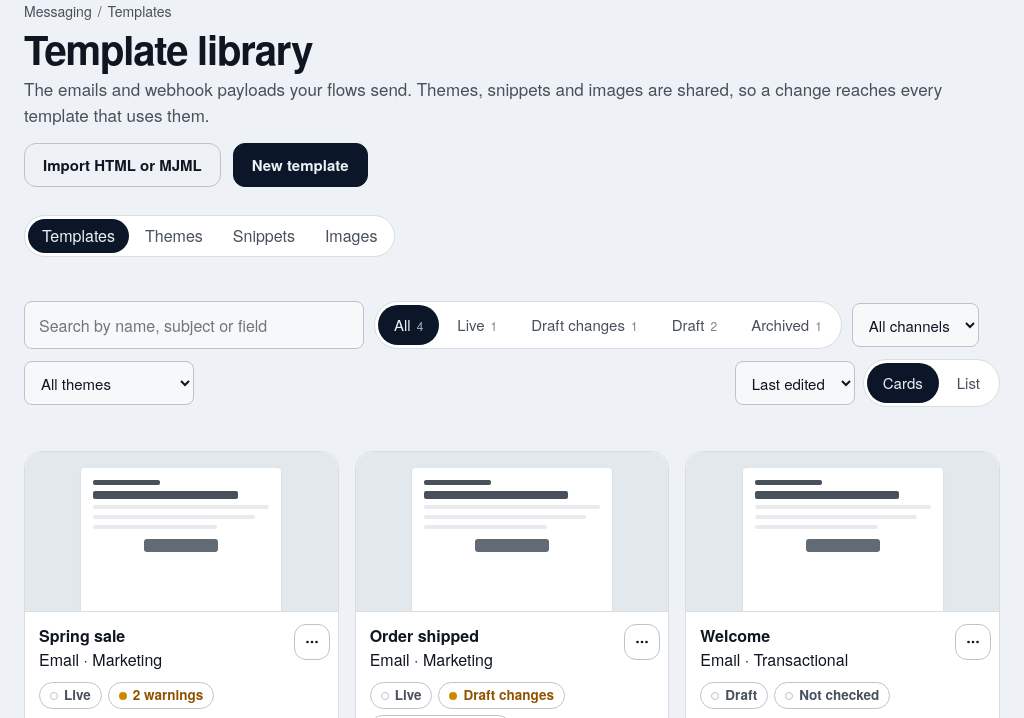
a template's menu › shows the flows from the refusal when a flow started sending the template since the list was read
Click the button named "Actions for Order shipped" at (642,642), box left=624, top=624, right=660, bottom=660
(page scrolled)
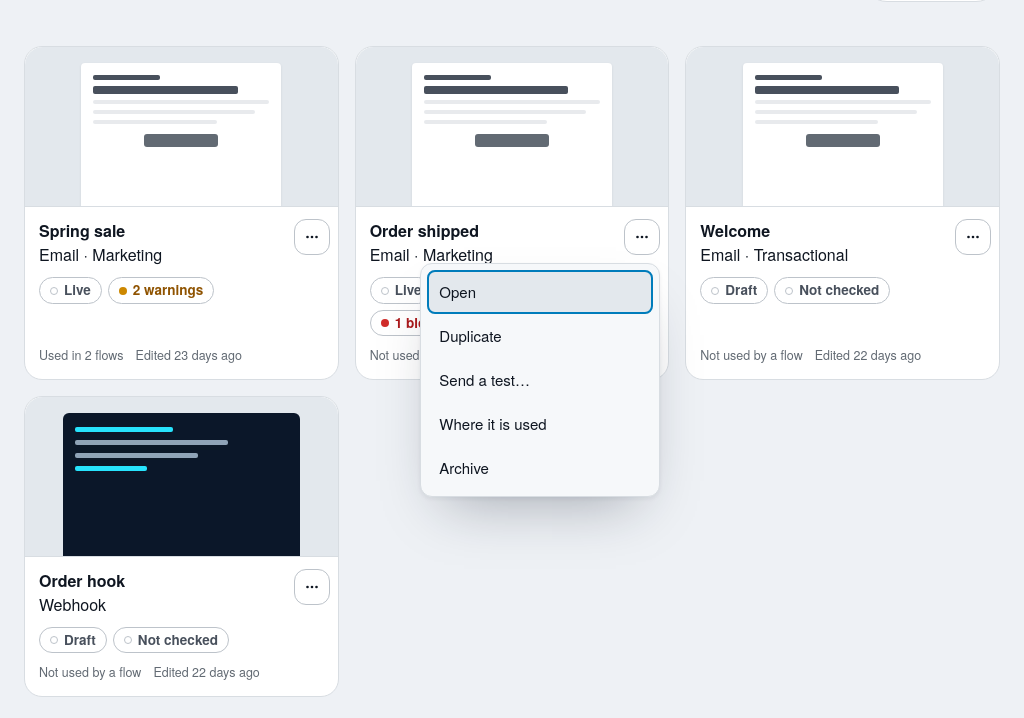
Click the menu item "Archive" at (540,468), box left=427, top=446, right=653, bottom=490
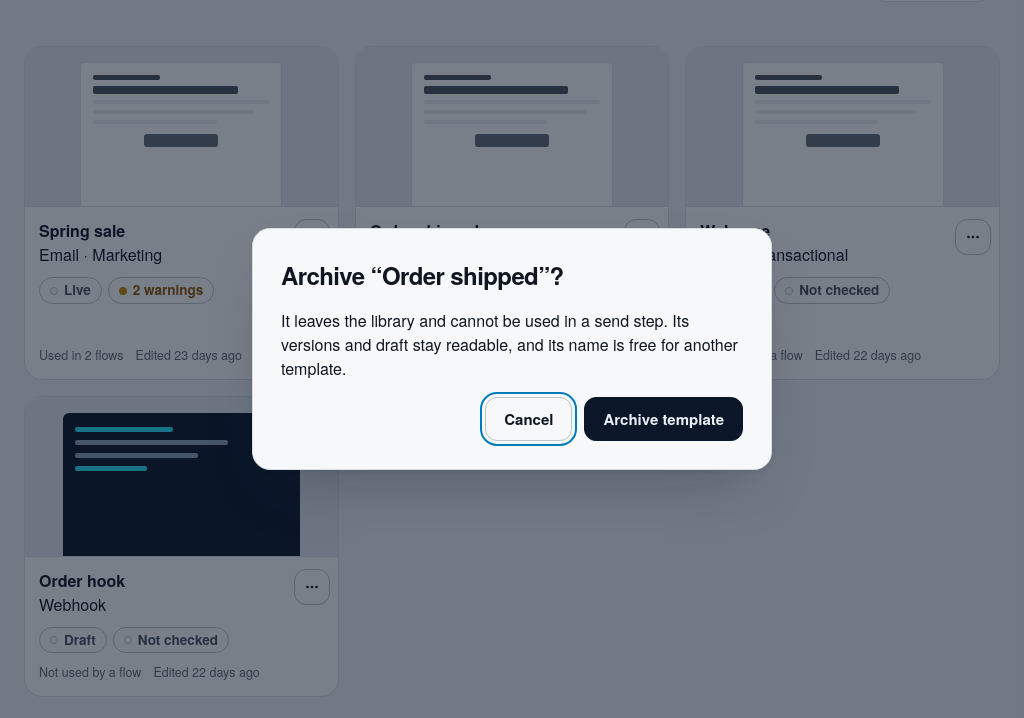
Click the button "Archive template" at (664,419), box left=584, top=397, right=743, bottom=441
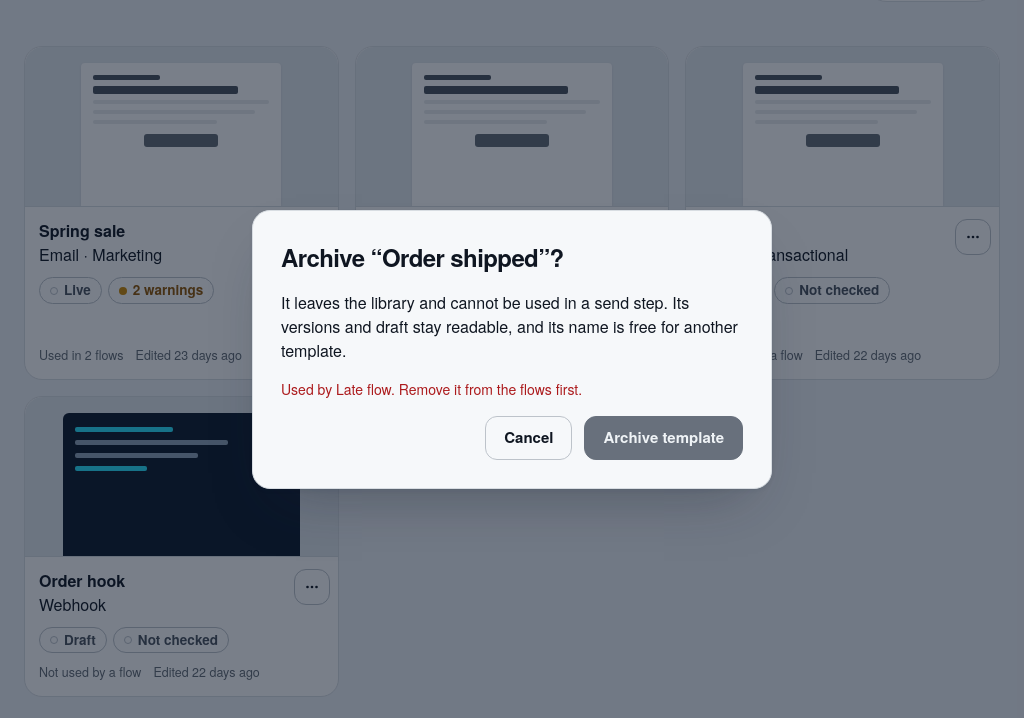
Now the text "Used by Late flow. Remove it from the flows first." is shown, box left=281, top=378, right=582, bottom=398
Now the button "Archive template" is disabled, box left=584, top=416, right=743, bottom=460
